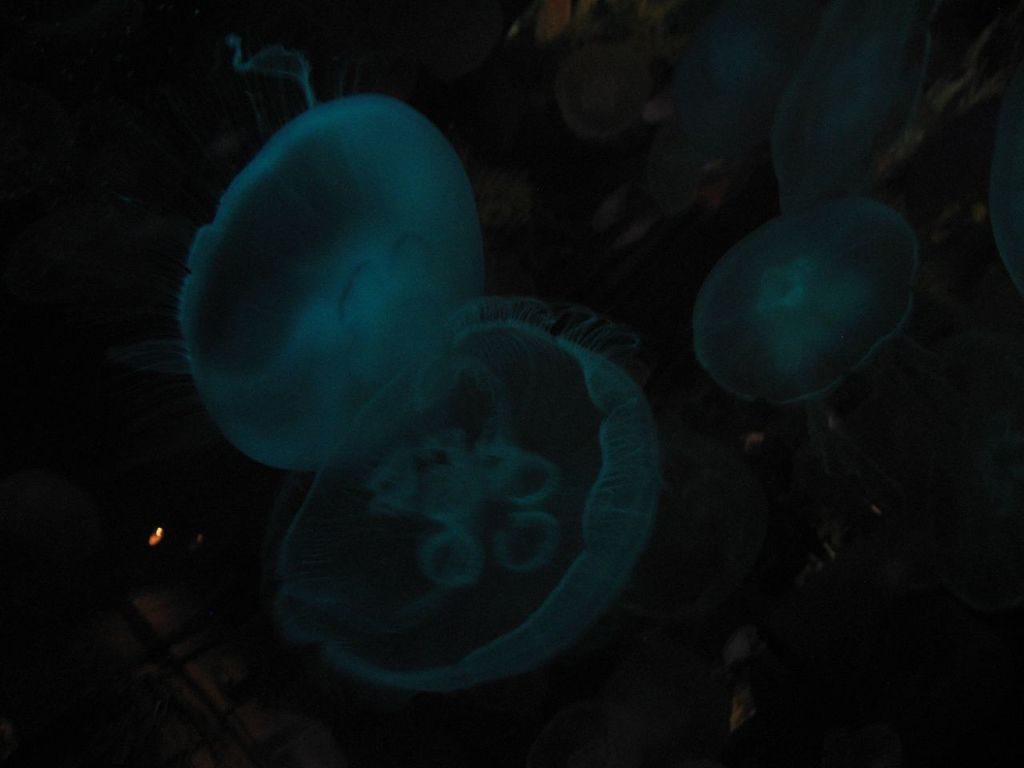Jellyfish: (258, 302, 668, 702), (138, 27, 491, 468), (688, 191, 920, 431)
